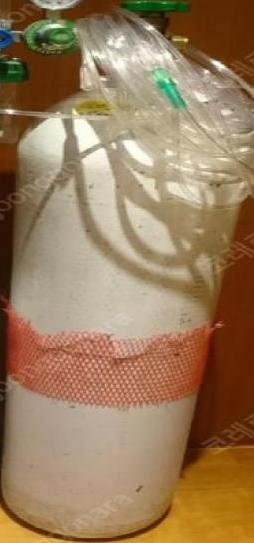cylinder: (1, 0, 254, 543)
